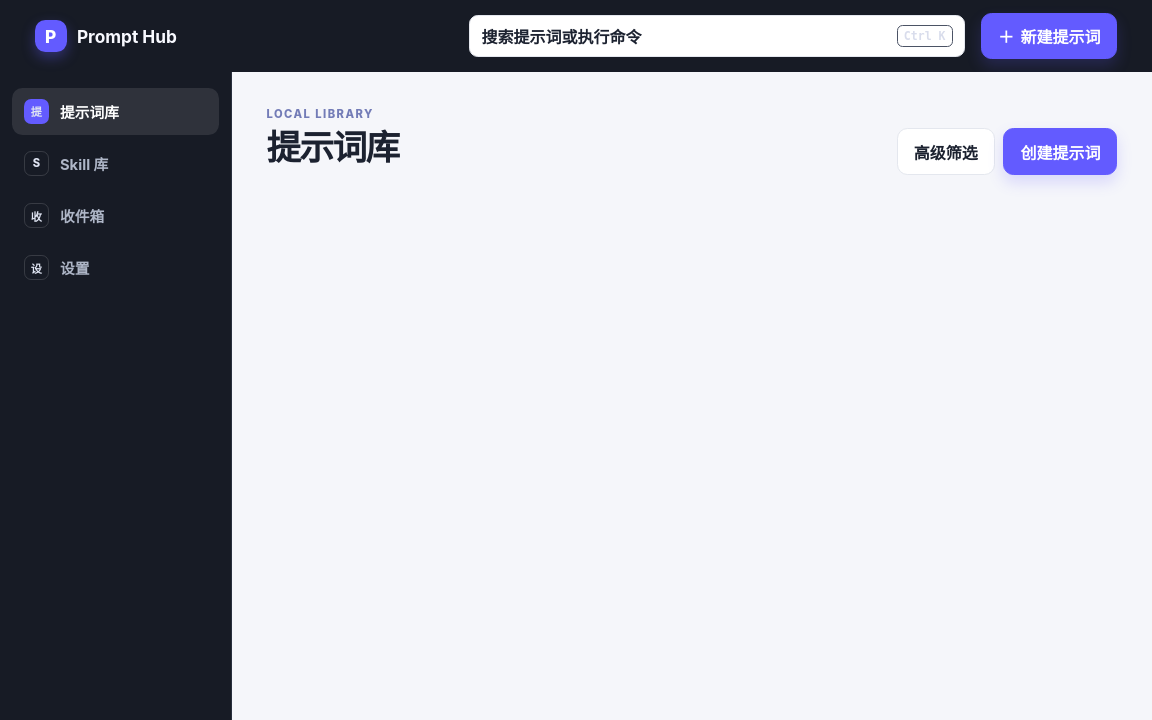
Test: App › shows the import and review inbox from navigation
The image size is (1152, 720).
What coordinates should you click on to do the following:
click the link "收 收件箱"
I would click on:
 (64, 216)
Its box is [24, 203, 104, 228].
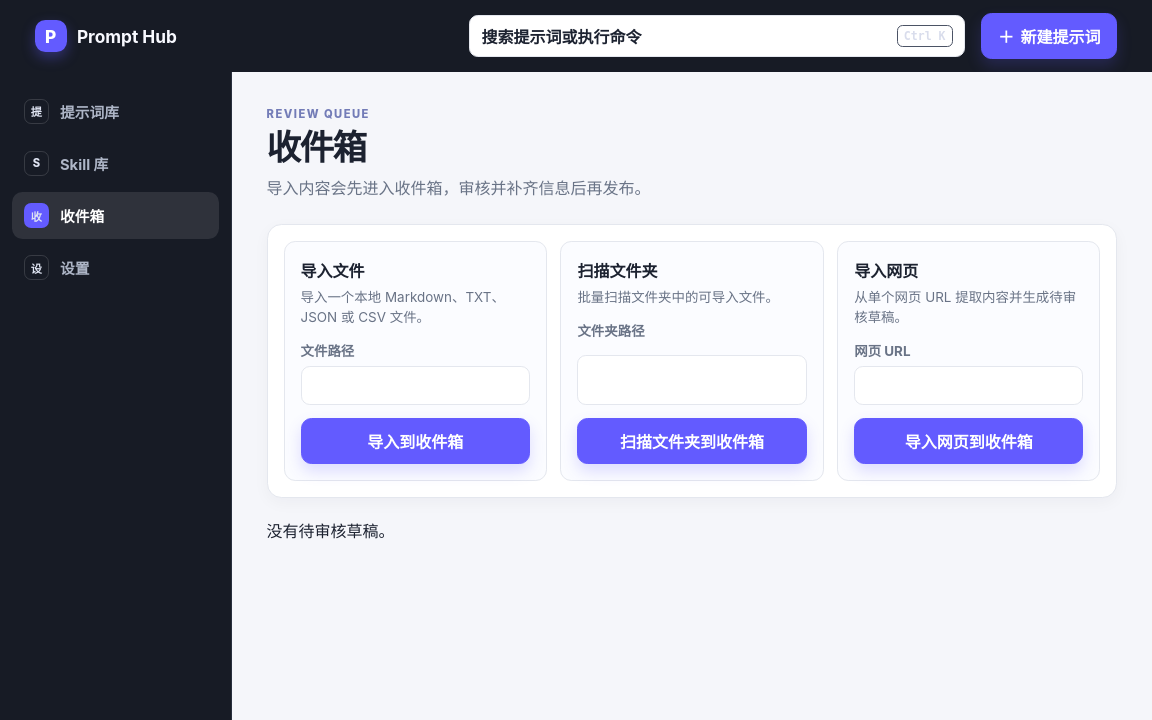
Now the heading "收件箱" is shown, box [266, 127, 366, 168]
Now the button "导入到收件箱" is disabled, box [300, 418, 530, 464]
